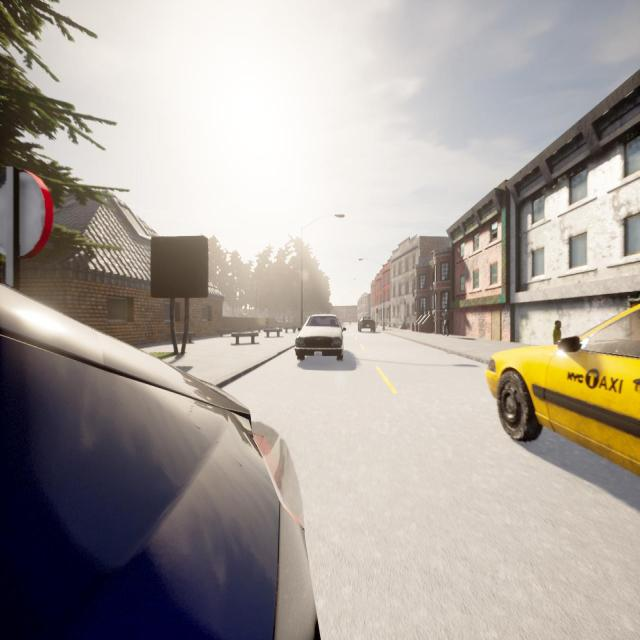Pedestrian: (553, 320, 562, 345), (442, 308, 450, 336), (265, 317, 268, 328)
Traffic_Signs: (0, 163, 54, 259)
Vehicle: (0, 279, 320, 640), (485, 305, 640, 475), (294, 314, 346, 361), (358, 314, 376, 334)
traffic_light: (376, 307, 378, 313)
